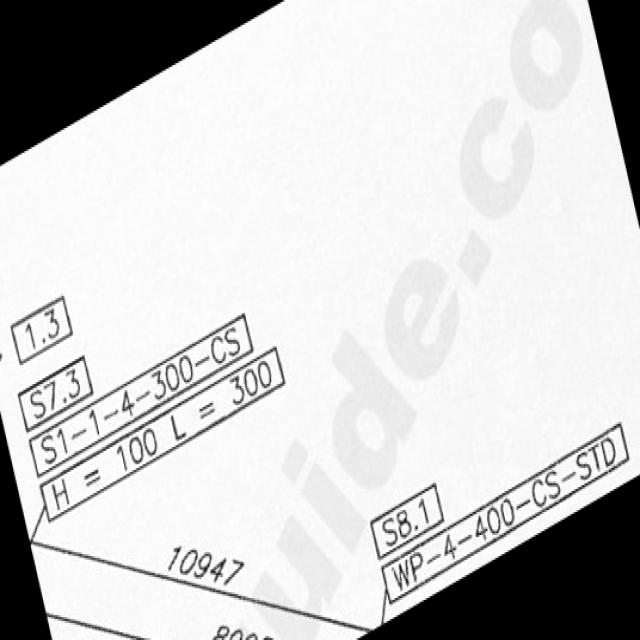Item number: (369, 477, 446, 569), (17, 350, 94, 442), (9, 289, 76, 370)
Measrement: (376, 436, 632, 585), (34, 532, 389, 638), (29, 308, 250, 450)
